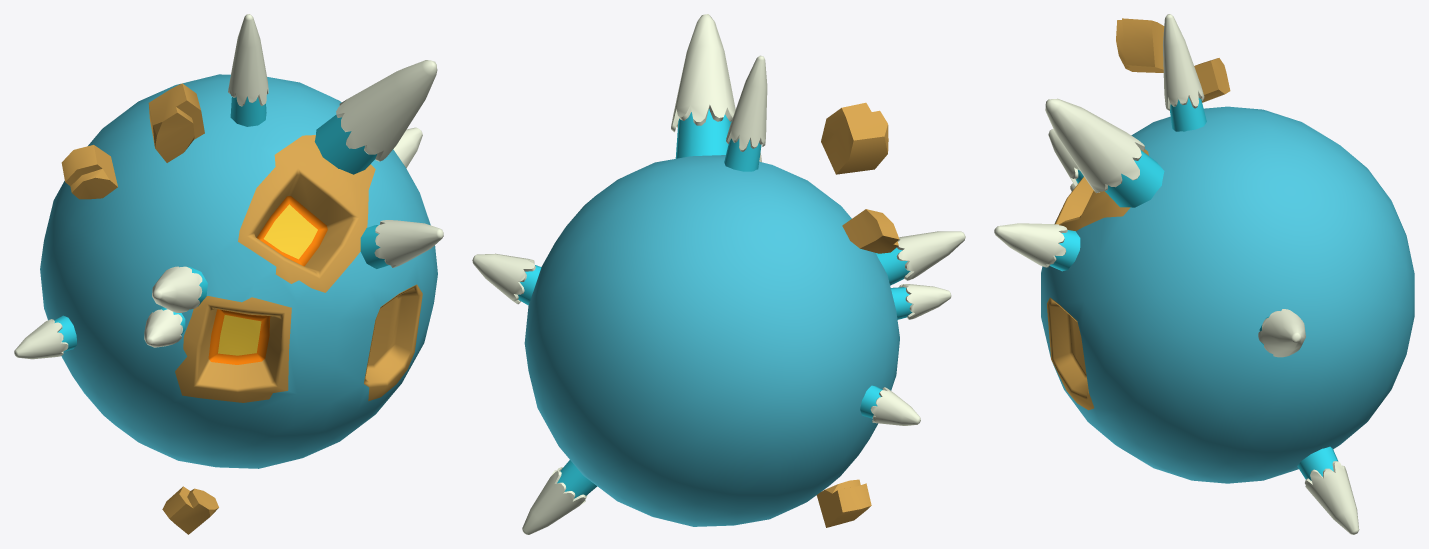
Rendered from Exotic_Planet_Snow_Trees.fbx.
The picture shows the model from 3 angles, left to right: view 1: azimuth 30°, elevation 25°; view 2: azimuth 150°, elevation 25°; view 3: azimuth 270°, elevation 25°; orthographic projection. The views are drawn at different scales.
Visible parts, largest first — view 1: Planet_SnowTrees_Mesh; view 2: Planet_SnowTrees_Mesh; view 3: Planet_SnowTrees_Mesh.
Boxes of the visible parts, x1,y1,x2,y2 form: Planet_SnowTrees_Mesh: (14,14,443,534); Planet_SnowTrees_Mesh: (472,14,965,534); Planet_SnowTrees_Mesh: (994,14,1414,534).
Bounding box in the file's own units: 5.99 × 6.36 × 5.21.
